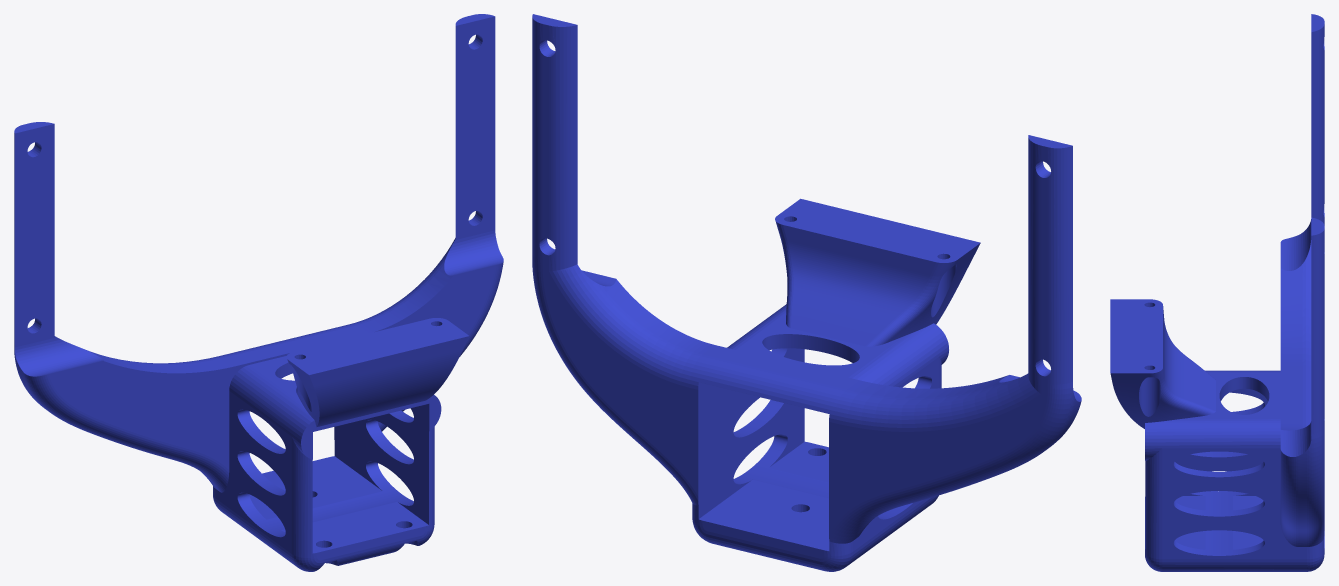
File: camera_mount_blackfly.dae
3 views of the same model, side by side, from view 1: azimuth 30°, elevation 25°; view 2: azimuth 150°, elevation 25°; view 3: azimuth 270°, elevation 25° (orthographic). The views are drawn at different scales.
Parts seen in each view (by area): view 1: Camera_Mount_Blackfly; view 2: Camera_Mount_Blackfly; view 3: Camera_Mount_Blackfly.
Boxes of the visible parts, left/top/right/bottom form: Camera_Mount_Blackfly: left=14, top=14, right=503, bottom=571; Camera_Mount_Blackfly: left=532, top=14, right=1081, bottom=571; Camera_Mount_Blackfly: left=1110, top=14, right=1324, bottom=571.
Size of the model in its own units: 0.1199 by 0.0488 by 0.103.
